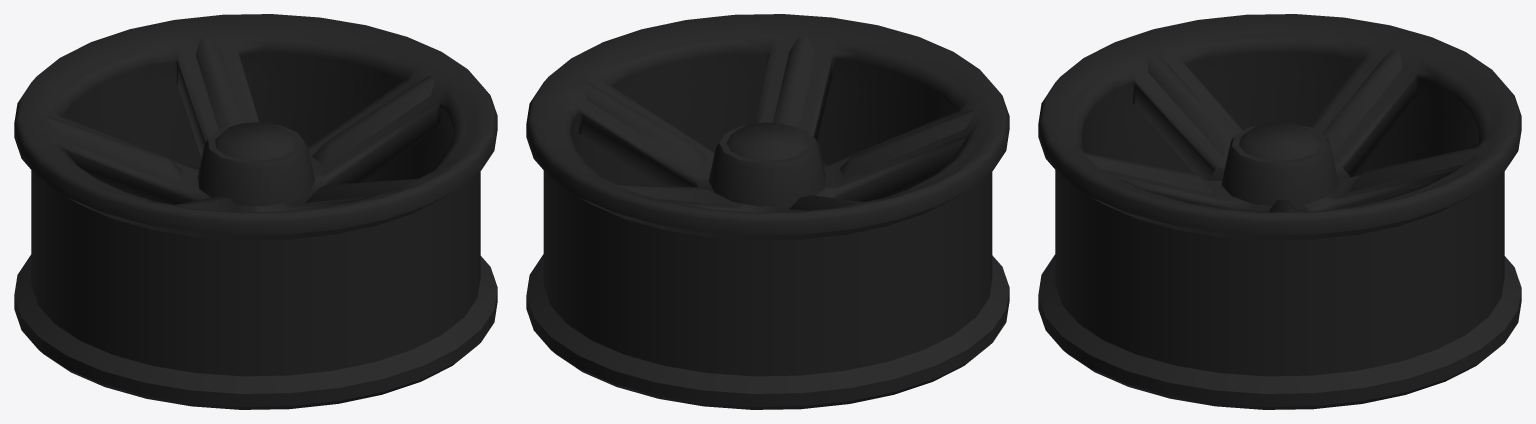
The model's file is Rim_B.fbx.
3 views of the same model, side by side, from view 1: azimuth 30°, elevation 25°; view 2: azimuth 150°, elevation 25°; view 3: azimuth 270°, elevation 25° (orthographic).
Visible parts, largest first — view 1: Rim_B; view 2: Rim_B; view 3: Rim_B.
Boxes of the visible parts, left/top/right/bottom form: Rim_B: left=14, top=14, right=497, bottom=409; Rim_B: left=526, top=14, right=1009, bottom=409; Rim_B: left=1038, top=14, right=1521, bottom=409.
Bounding box in the file's own units: 0.4944 × 0.2256 × 0.4951.
